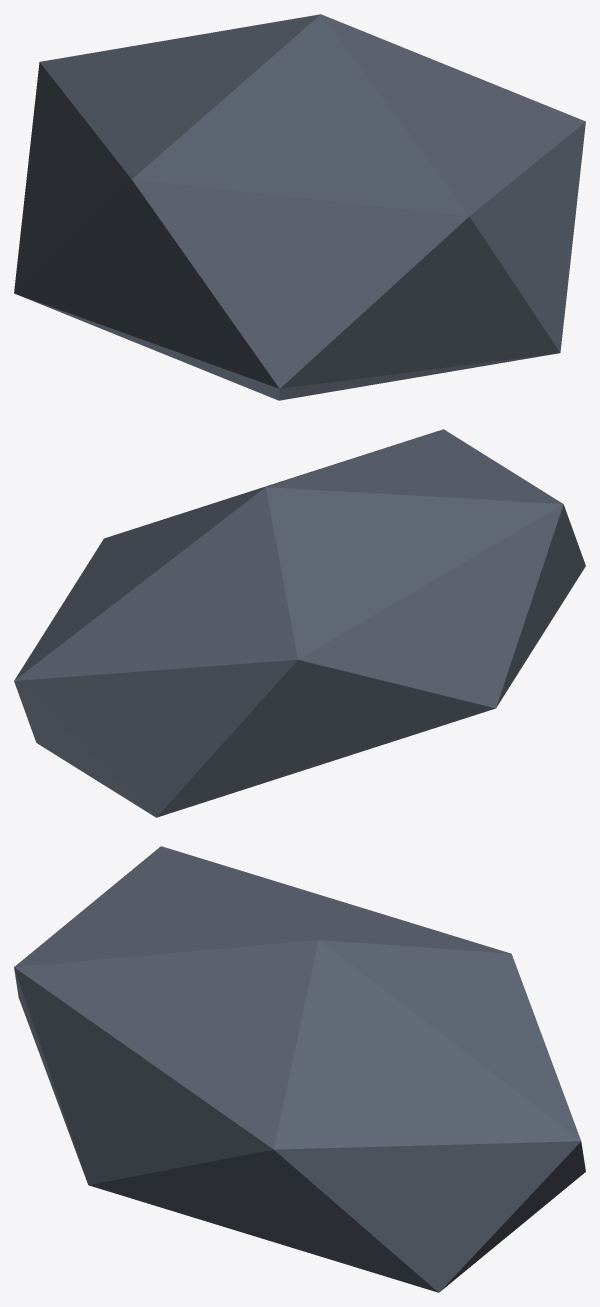
File: EXT_SouthCliff_06_Shard_0.glb
3 views of the same model, one above another, from view 1: azimuth 30°, elevation 25°; view 2: azimuth 150°, elevation 25°; view 3: azimuth 270°, elevation 25° (orthographic). The views are drawn at different scales.
Parts seen in each view (by area): view 1: EXT_SouthCliff_06_Shard_0; view 2: EXT_SouthCliff_06_Shard_0; view 3: EXT_SouthCliff_06_Shard_0.
Part boxes in pixels (x1,y1,x2,y2): EXT_SouthCliff_06_Shard_0: (14, 14, 585, 400); EXT_SouthCliff_06_Shard_0: (14, 429, 585, 817); EXT_SouthCliff_06_Shard_0: (14, 846, 585, 1292).
Bounding box in the file's own units: 1.62 × 1.01 × 1.85.
